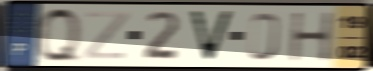0: (248, 12, 282, 62)
2: (141, 10, 181, 62)
H: (288, 10, 336, 64)
Q: (35, 5, 83, 66)
V: (187, 9, 237, 64)
Z: (81, 9, 131, 61)
